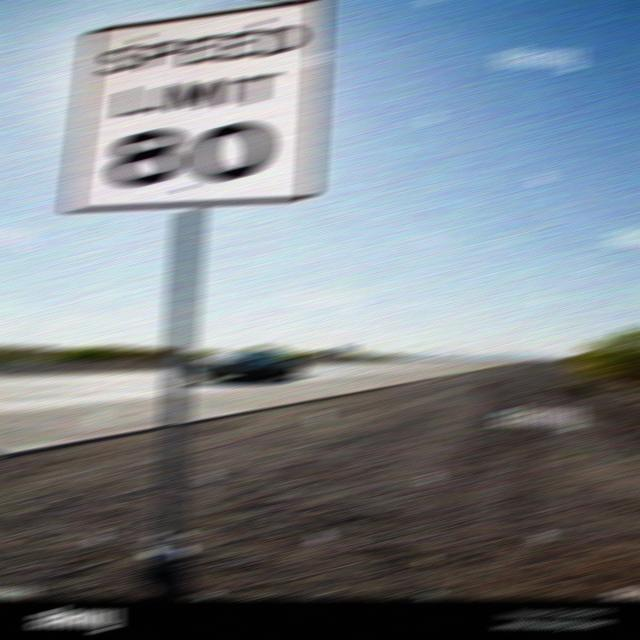speedLimit80: (72, 4, 326, 215)
